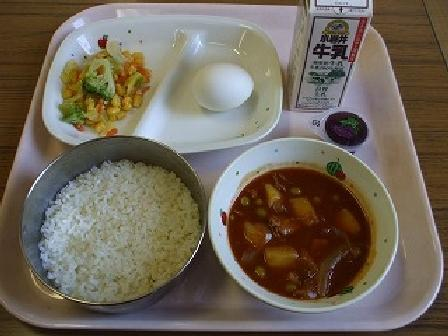Cup desserts: (309, 99, 384, 157)
Milk: (285, 4, 376, 108)
Rice: (23, 135, 211, 305)
Salad: (48, 33, 144, 135)
boiled eggs: (185, 52, 260, 120)
vegetable soup: (217, 145, 389, 299)
